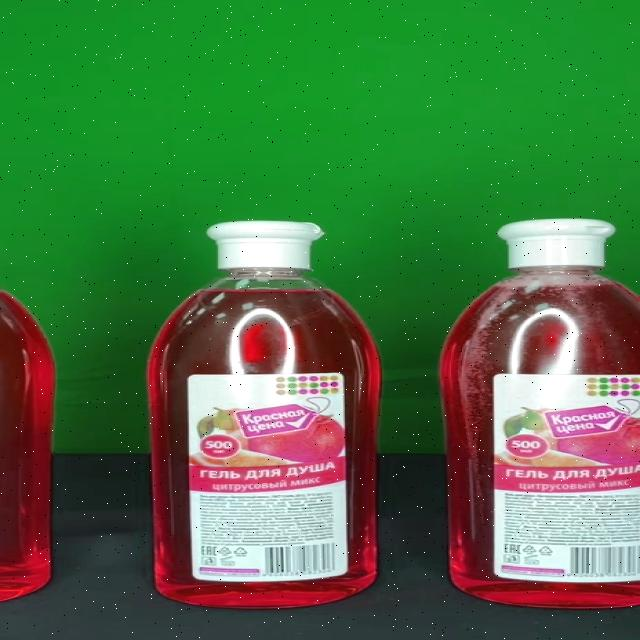Bottle: (146, 222, 381, 610), (439, 220, 640, 610)
Cap: (206, 222, 326, 270), (499, 219, 616, 267)
